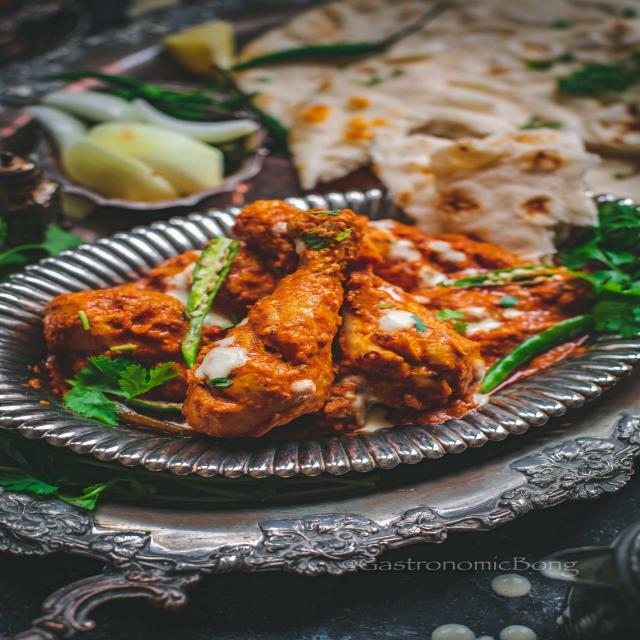chicken: (45, 204, 581, 447)
